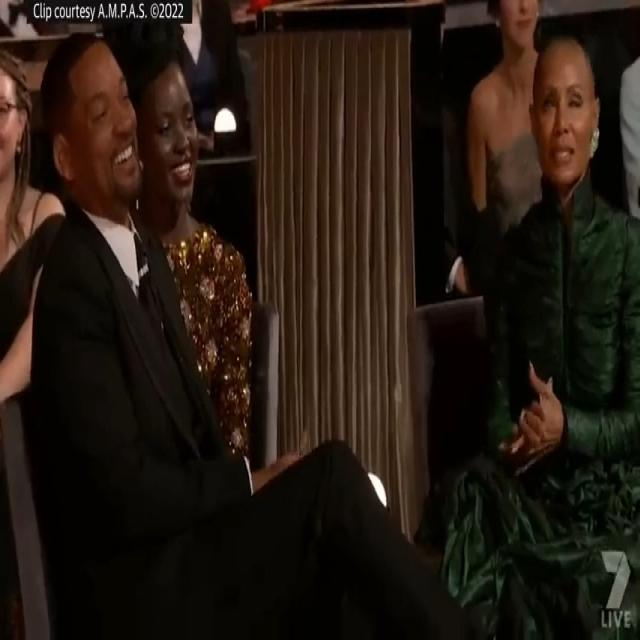non-fight: (27, 33, 640, 633)
